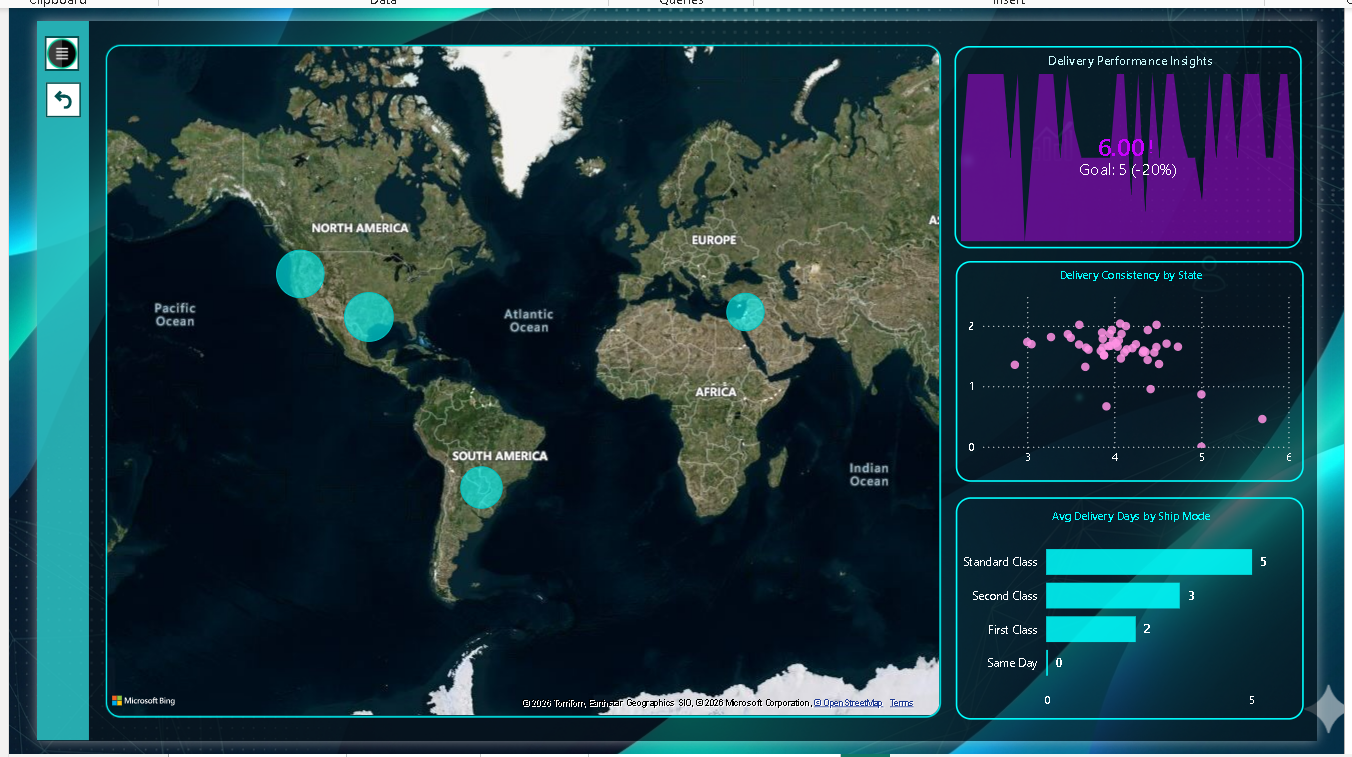

Layout of this report page (visuals, bound fields, positions):
{"tool":"powerbi","page":{"name":" Logistics","canvas":[1280,720],"ordinal":2},"visuals":[{"type":"shape","title":"Short Menu","box":[0,0,51.9,719.5],"z":0,"group":"g2"},{"type":"kpi","title":"Delivery Performance Insights","fields":{"Goal":["_Measures.Delivery Ceiling"],"Indicator":["_Measures.Worst Region Delivery"],"TrendLine":["DimDate.Start of Month"]},"box":[916.9,24.7,347.5,202.7],"z":0,"group":"g1"},{"type":"group","id":"g1","title":"Right Visuals","box":[916.9,24.7,349.4,672.7],"z":0},{"type":"actionButton","title":"Menu Button","box":[7.8,15.6,35,35],"z":1000,"group":"g2"},{"type":"map","title":"Left Map Visual","fields":{"Category":["DimLocation.Location Hierarchy.Region","DimLocation.Location Hierarchy.State","DimLocation.Location Hierarchy.City"],"Size":["_Measures.Total Sales"]},"box":[68.8,23.4,835.1,672.7],"z":1000},{"type":"clusteredBarChart","fields":{"Category":["DimShipMode.Ship Mode"],"Y":["_Measures.Avg Delivery Days"]},"box":[918.6,476.2,347.7,222.2],"z":1000,"group":"g1"},{"type":"group","id":"g2","title":"Small Navbar","box":[0,0,51.9,719.5],"z":2000},{"type":"actionButton","title":"Reset Button","box":[9.1,61,35.1,35.1],"z":2000,"group":"g2"},{"type":"scatterChart","title":"Delivery Consistency by State","fields":{"Category":["DimLocation.State"],"X":["_Measures.Avg Delivery Days"],"Y":["_Measures.Delivery Variability"]},"box":[918.6,239.6,347.7,220.7],"z":2000,"group":"g1"}]}

Visuals, with their boxes on the page's 1280x720 design canvas (x1, y1, x2, y2). These are canvas units, not pixel positions in the 1352x757 screenshot, which may show the page scaled, cropped or inside an application window:
"Short Menu" shape: <region>0, 0, 52, 720</region>
"Delivery Performance Insights" kpi: <region>917, 25, 1264, 227</region>
"Right Visuals" group: <region>917, 25, 1266, 697</region>
"Menu Button" actionButton: <region>8, 16, 43, 51</region>
"Left Map Visual" map: <region>69, 23, 904, 696</region>
clusteredBarChart - DimShipMode.Ship Mode x _Measures.Avg Delivery Days: <region>919, 476, 1266, 698</region>
"Small Navbar" group: <region>0, 0, 52, 720</region>
"Reset Button" actionButton: <region>9, 61, 44, 96</region>
"Delivery Consistency by State" scatterChart: <region>919, 240, 1266, 460</region>
